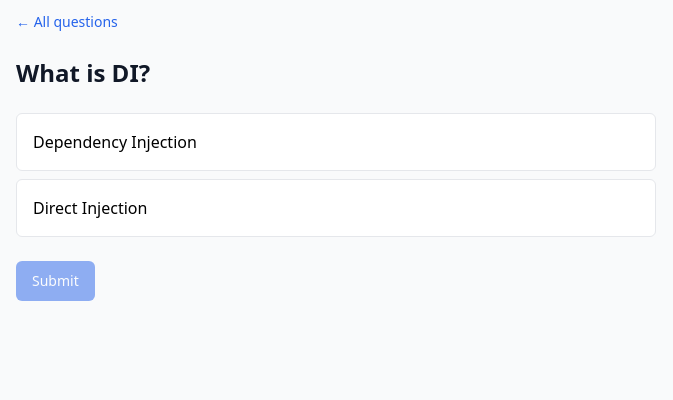
Test: QuestionPage › highlights the wrong answer red and the correct one green when incorrect
The width and height of the screenshot is (673, 400).
Click the button "Direct Injection": (90, 208) [16,179,656,237]
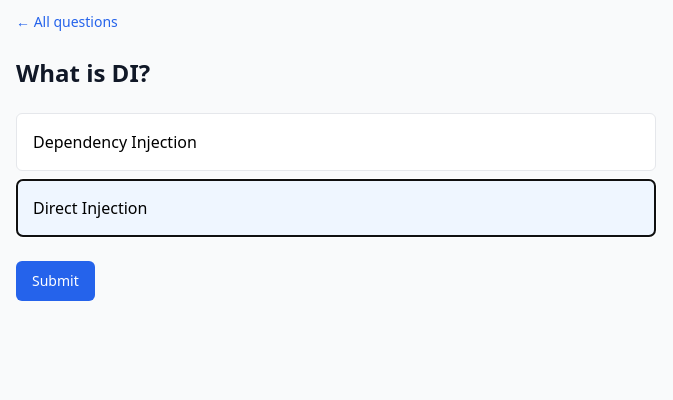
Click the button "Submit": (55, 281) [16,261,95,301]
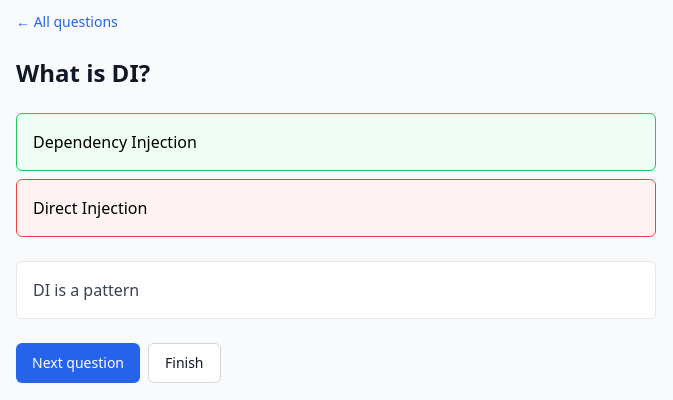
Expected: the text "DI is a pattern" is shown, [16,261,656,319]
